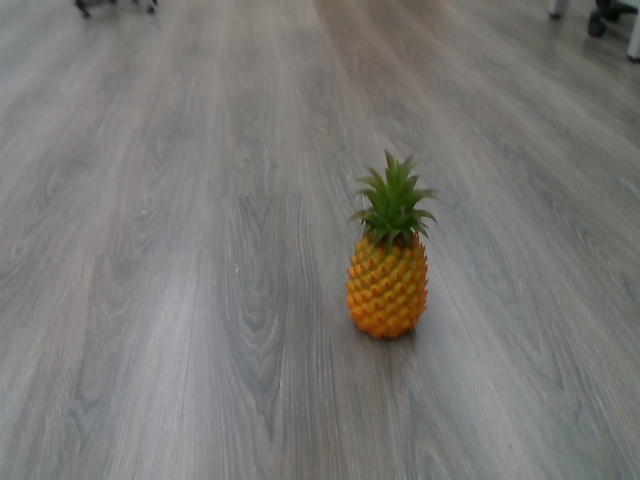pineapple: (336, 146, 442, 346)
